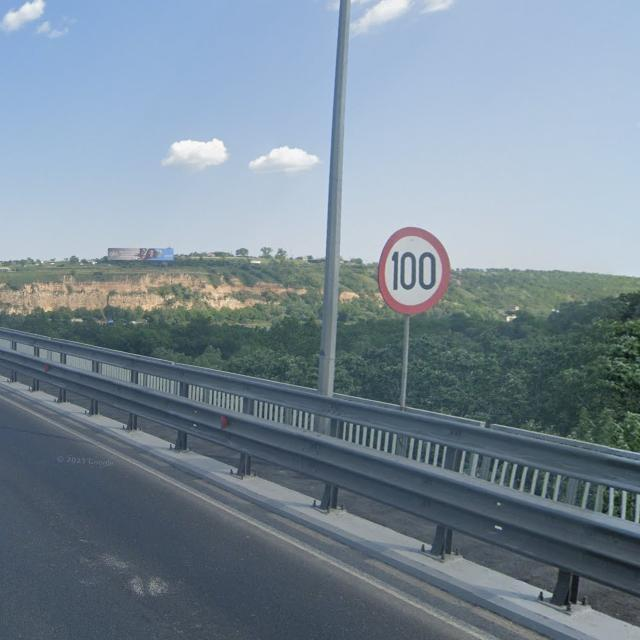forb_speed_over_100: (378, 226, 451, 315)
